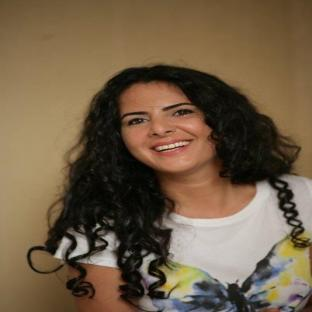Human: (27, 65, 311, 311)
